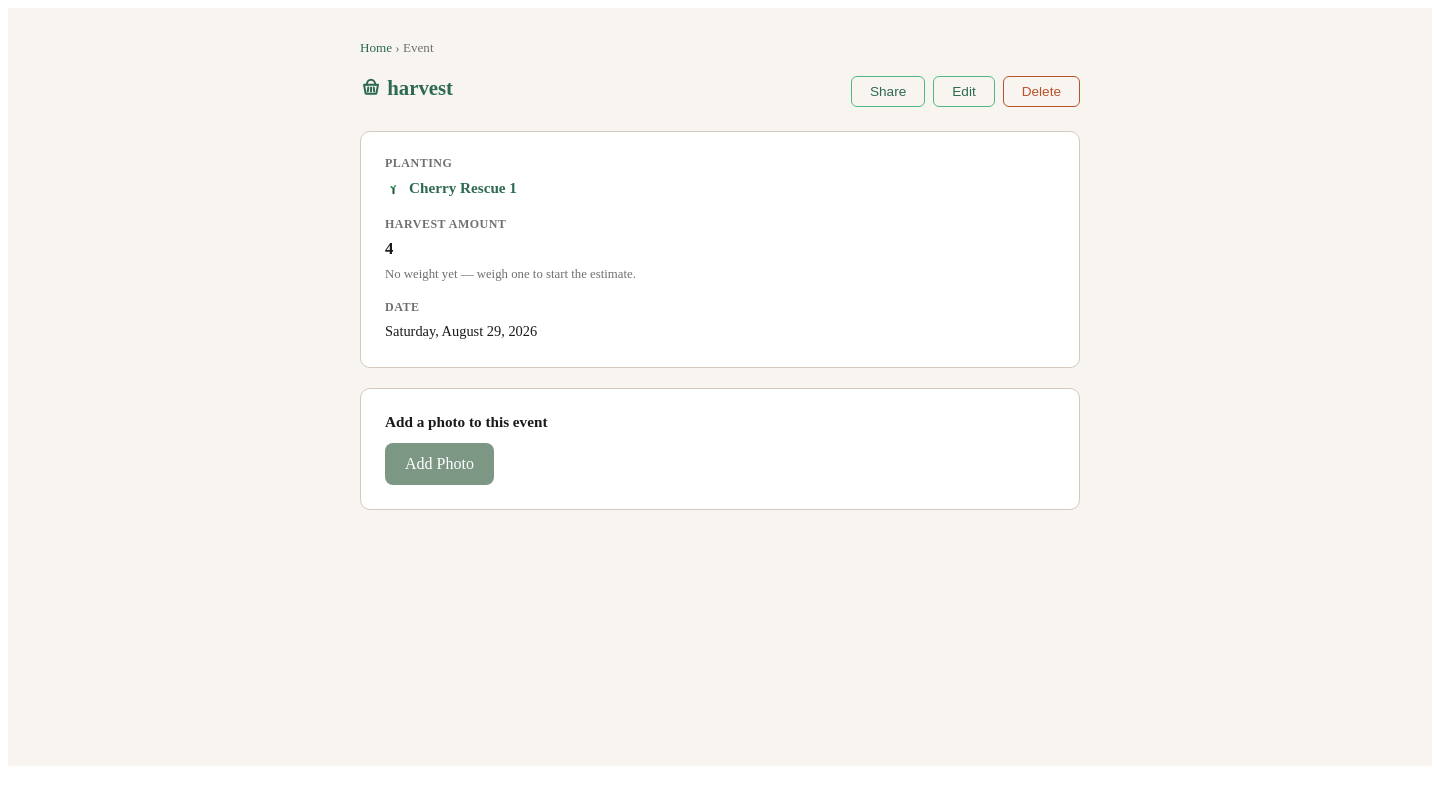
the re-anchor control › the control renders SEEDED to the planting the event is already on
What coordinates should you click on to do the following:
click the button "Edit"
I would click on:
 (964, 92)
Its box is [933, 76, 995, 107].
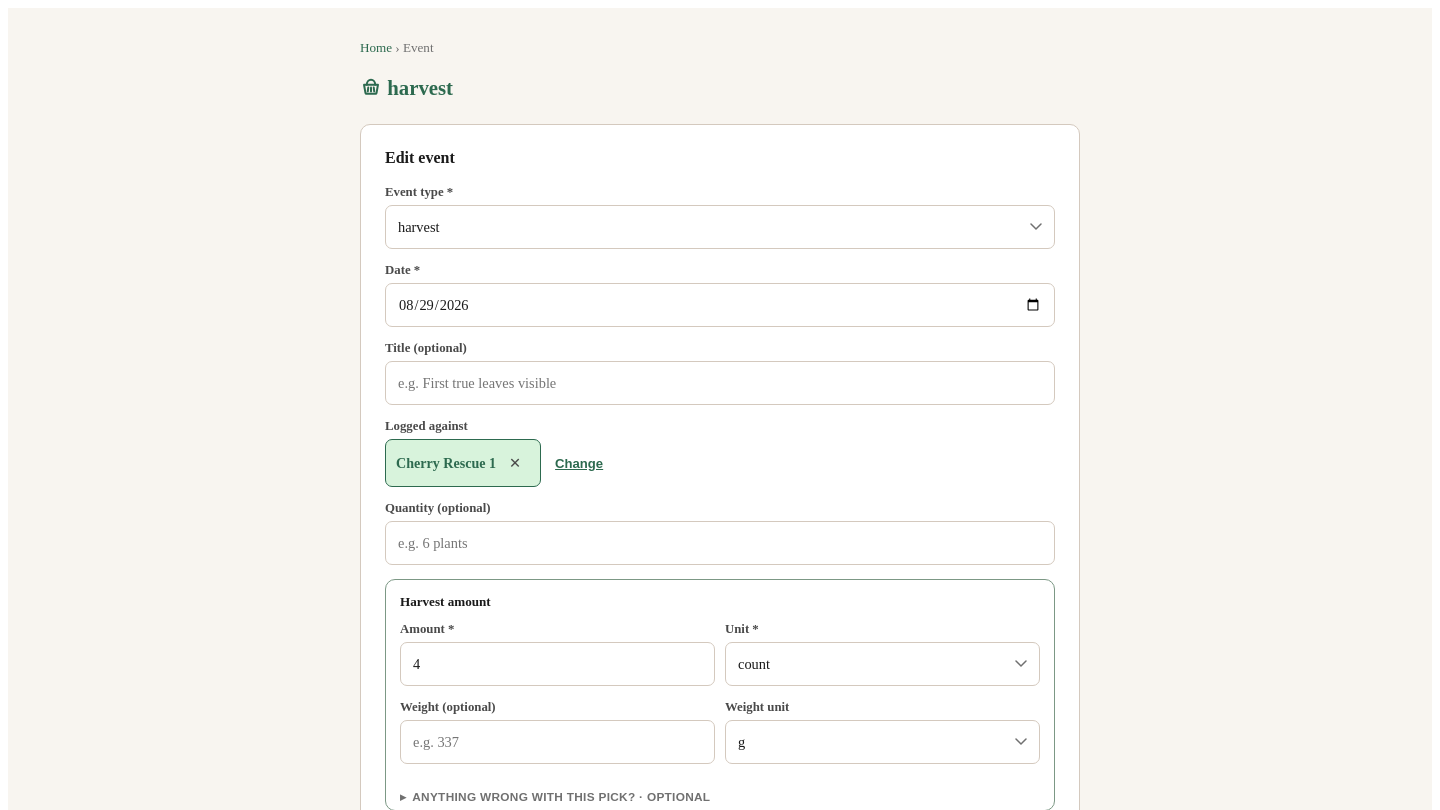
expect the element with test id "evtdetail-planting-chip" shows "Cherry Rescue 1": met, box [396, 454, 496, 470]
